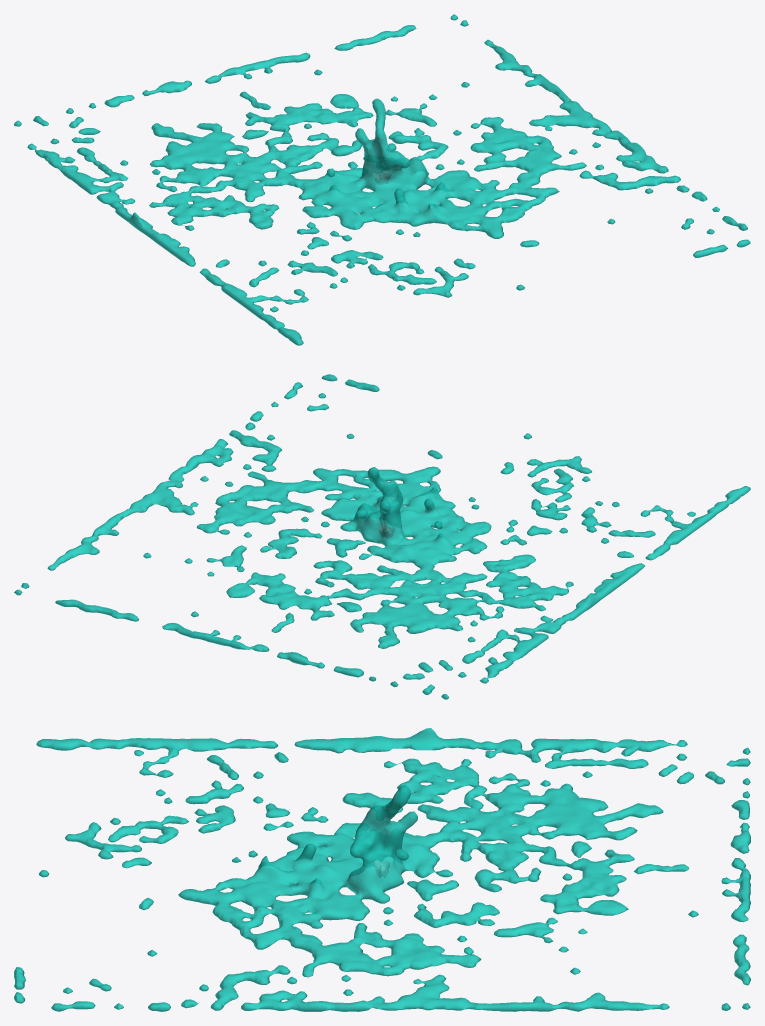
3 renders of one model, top to bottom at view 1: azimuth 30°, elevation 25°; view 2: azimuth 150°, elevation 25°; view 3: azimuth 270°, elevation 25°, orthographic. The views are drawn at different scales.
Parts seen in each view (by area): view 1: Liquid_Domain; view 2: Liquid_Domain; view 3: Liquid_Domain.
Boxes of the visible parts, bbox=[...] form: Liquid_Domain: bbox=[14, 14, 750, 345]; Liquid_Domain: bbox=[14, 374, 750, 699]; Liquid_Domain: bbox=[14, 728, 750, 1011].
Size of the model in its own units: 12.44 by 2.07 by 14.41.
